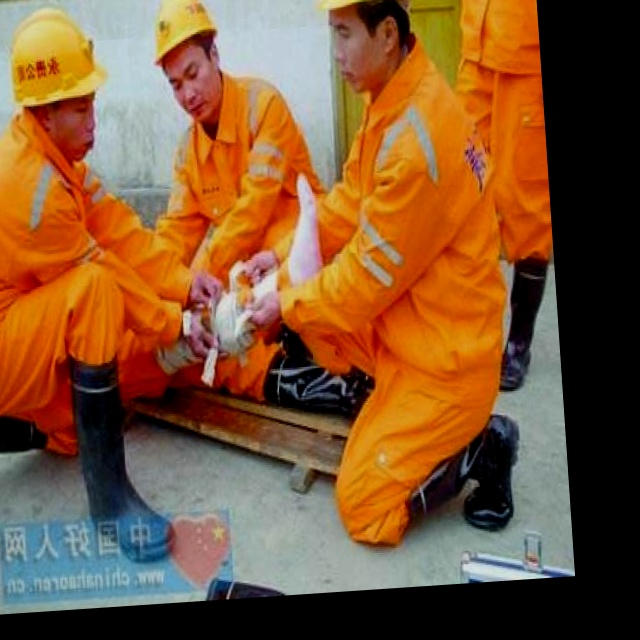Con_Casco: (146, 0, 227, 124), (319, 0, 433, 88)
